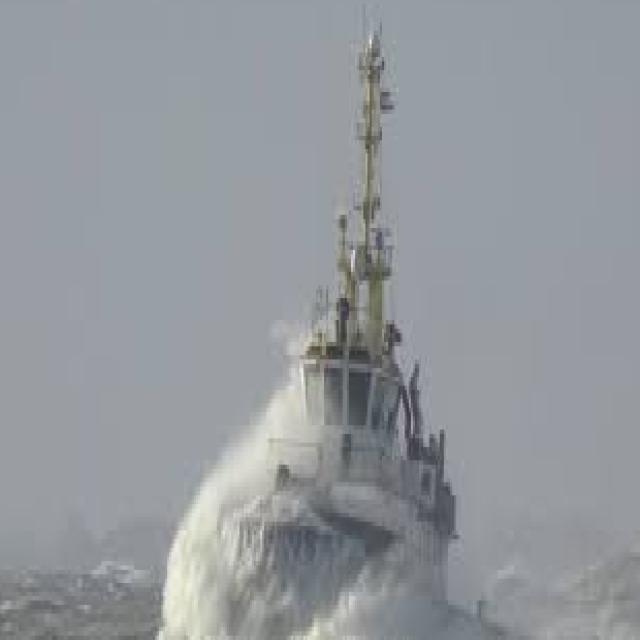navalvessels: (223, 19, 469, 638)
